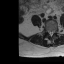CCS_normal: (50, 28, 52, 39)
LFS_normal: (54, 27, 56, 35)
LLS_normal: (52, 28, 54, 36)
RFS_normal: (45, 27, 47, 34)
RLS_normal: (47, 27, 50, 36)
